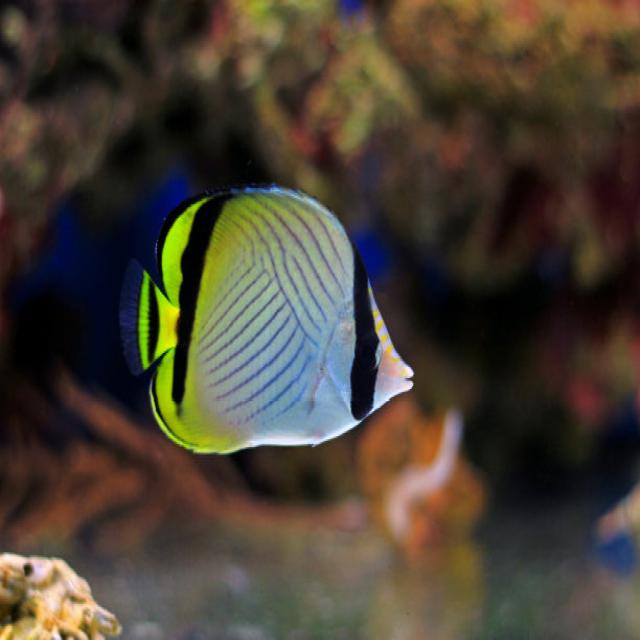ButterflyFish: (138, 186, 417, 452)
